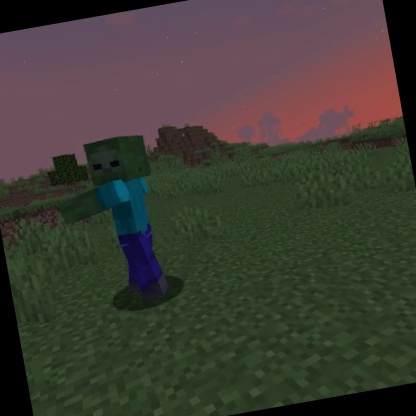zombie: (44, 129, 179, 317)
